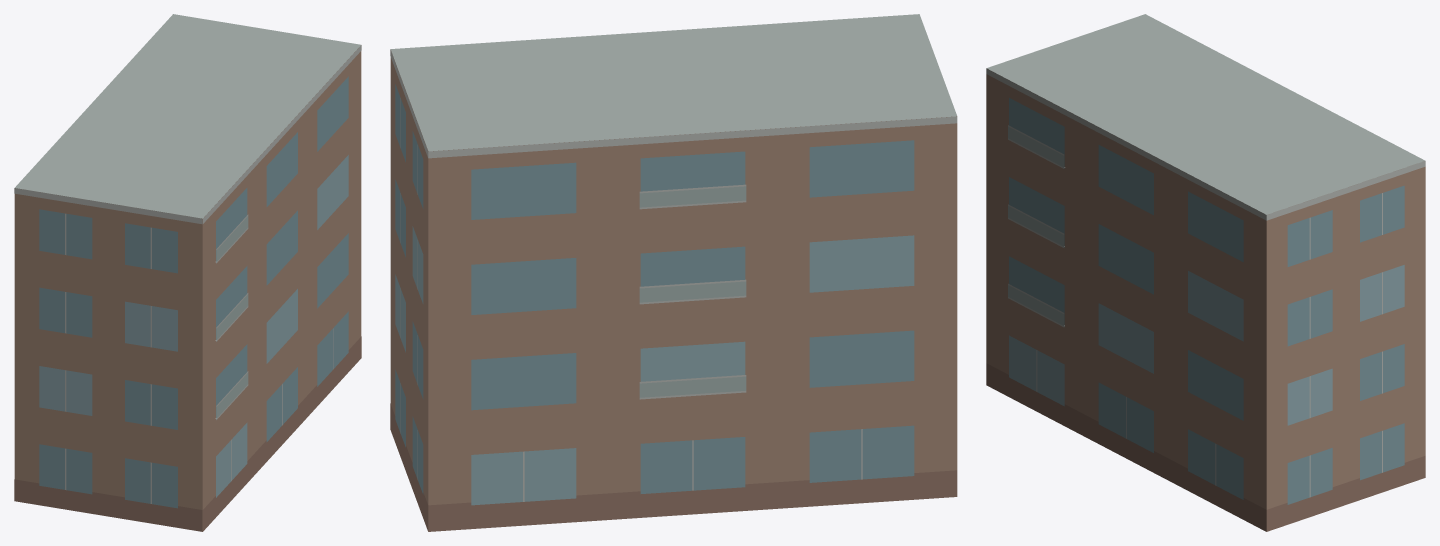
Rendered from survey-upis-32746598.glb.
3 views of the same model, side by side, from view 1: azimuth 30°, elevation 25°; view 2: azimuth 150°, elevation 25°; view 3: azimuth 270°, elevation 25° (orthographic). The views are drawn at different scales.
Parts seen in each view (by area): view 1: survey-upis-32746598.tmp; view 2: survey-upis-32746598.tmp; view 3: survey-upis-32746598.tmp.
Part boxes in pixels (x1,y1,x2,y2): survey-upis-32746598.tmp: (14,14,361,531); survey-upis-32746598.tmp: (390,14,957,531); survey-upis-32746598.tmp: (986,14,1425,531).
Size of the model in its own units: 18.08 by 13.3 by 16.71.
